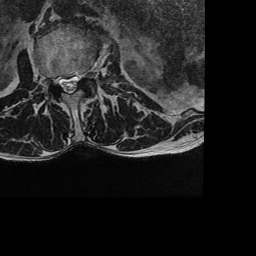CCS_normal: (65, 68, 73, 100)
LFS_stenosis: (80, 61, 88, 86)
LLS_stenosis: (73, 67, 80, 93)
RFS_normal: (48, 66, 57, 92)
RLS_normal: (57, 67, 66, 96)
